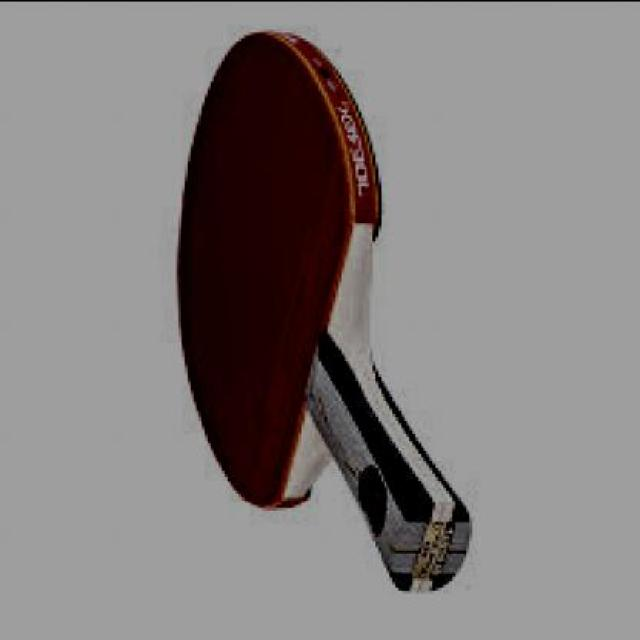table_tennis_racket: (174, 29, 383, 514)
